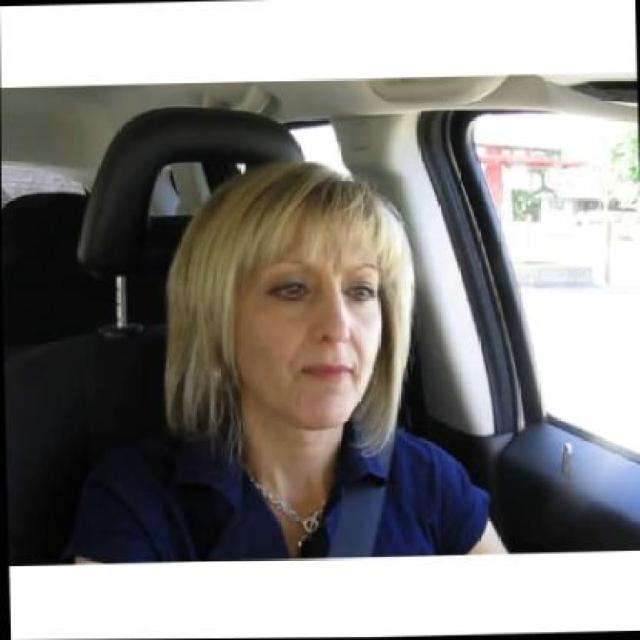attentif: (205, 157, 387, 426)
